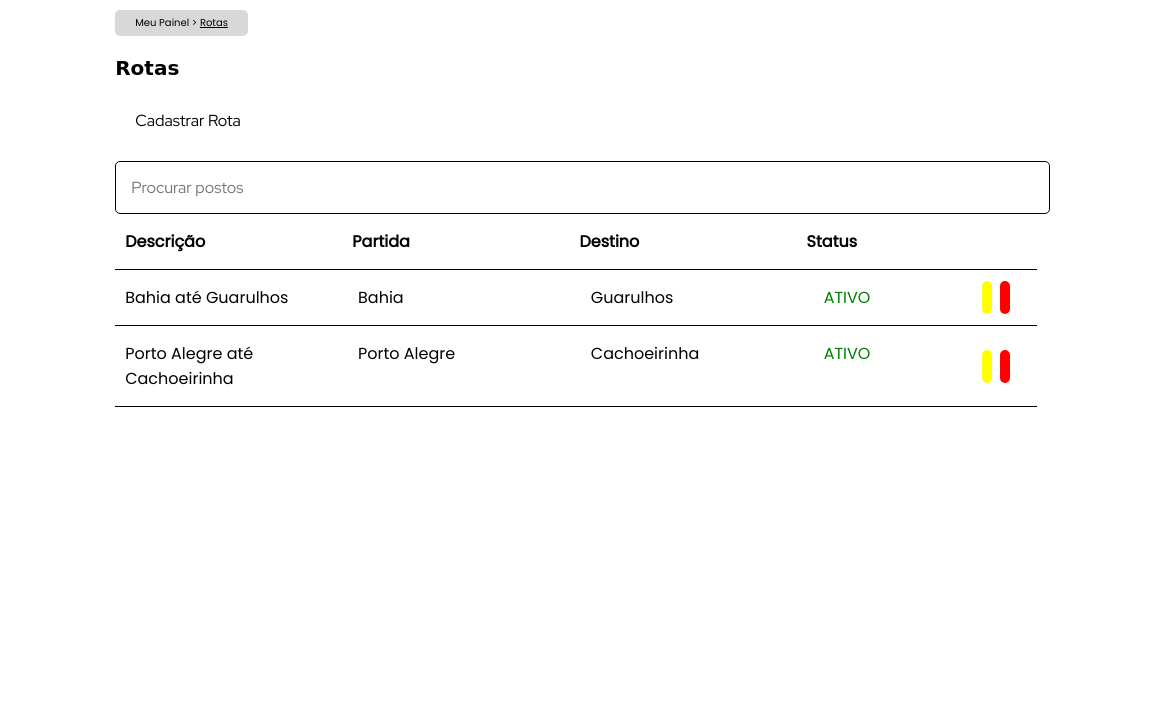
Scenario: 'Rotas' Page › should open DeleteRouteModal when delete button is clicked
Click the button titled "Deletar Posto" in the row of "Bahia até Guarulhos": (1005,298) [1000,285,1010,310]
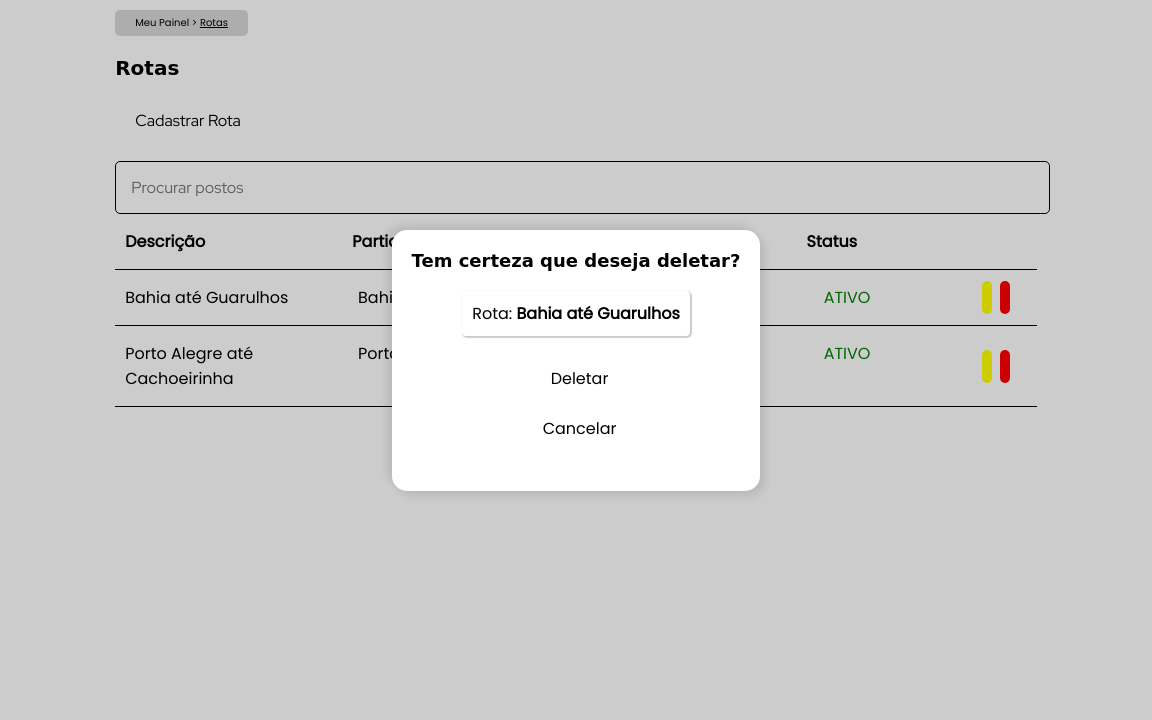
Result: the heading "Tem certeza que deseja deletar?" is shown at [412,250,740,270]
